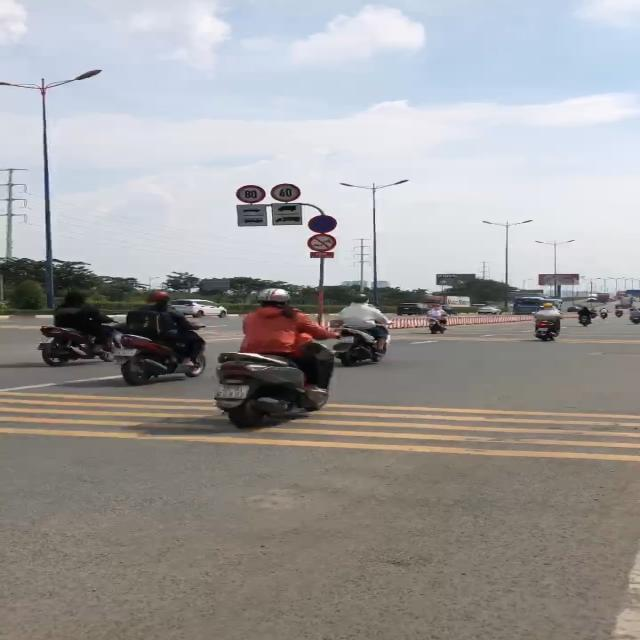Bien bao cam dung xe va do xe: (308, 214, 340, 234)
Bien bao toc do toi da cho phep: (269, 182, 303, 204), (234, 184, 271, 204)
